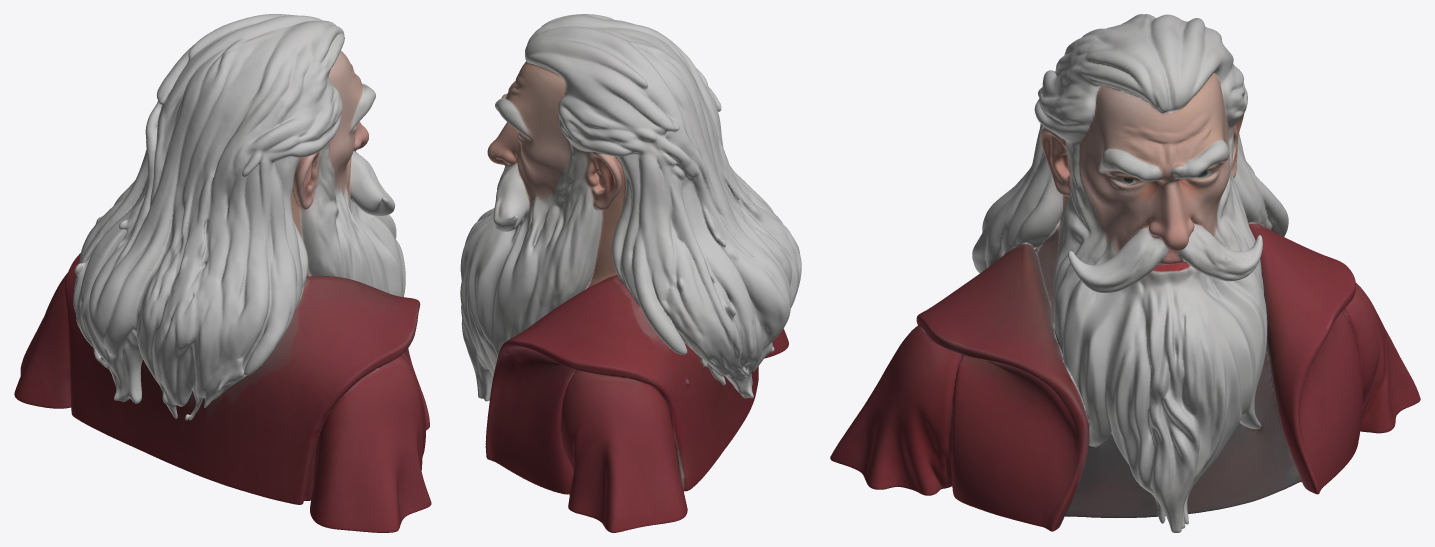
The model's file is detailed_realistic_model_albusdumbledore_28.glb.
The picture shows the model from 3 angles, left to right: view 1: azimuth 30°, elevation 25°; view 2: azimuth 150°, elevation 25°; view 3: azimuth 270°, elevation 25°; orthographic projection. The views are drawn at different scales.
Parts seen in each view (by area): view 1: tripo_node_fc9c6b9d-5fc3-48ce-aec7-0d536005f9e5; view 2: tripo_node_fc9c6b9d-5fc3-48ce-aec7-0d536005f9e5; view 3: tripo_node_fc9c6b9d-5fc3-48ce-aec7-0d536005f9e5.
Boxes of the visible parts, box(x1,y1,x2,y2) form: tripo_node_fc9c6b9d-5fc3-48ce-aec7-0d536005f9e5: box(14, 14, 431, 532); tripo_node_fc9c6b9d-5fc3-48ce-aec7-0d536005f9e5: box(460, 14, 801, 532); tripo_node_fc9c6b9d-5fc3-48ce-aec7-0d536005f9e5: box(830, 14, 1420, 532).
Bounding box in the file's own units: 0.6861 × 0.8381 × 1.
Materials: 1 (1 with a texture image).
